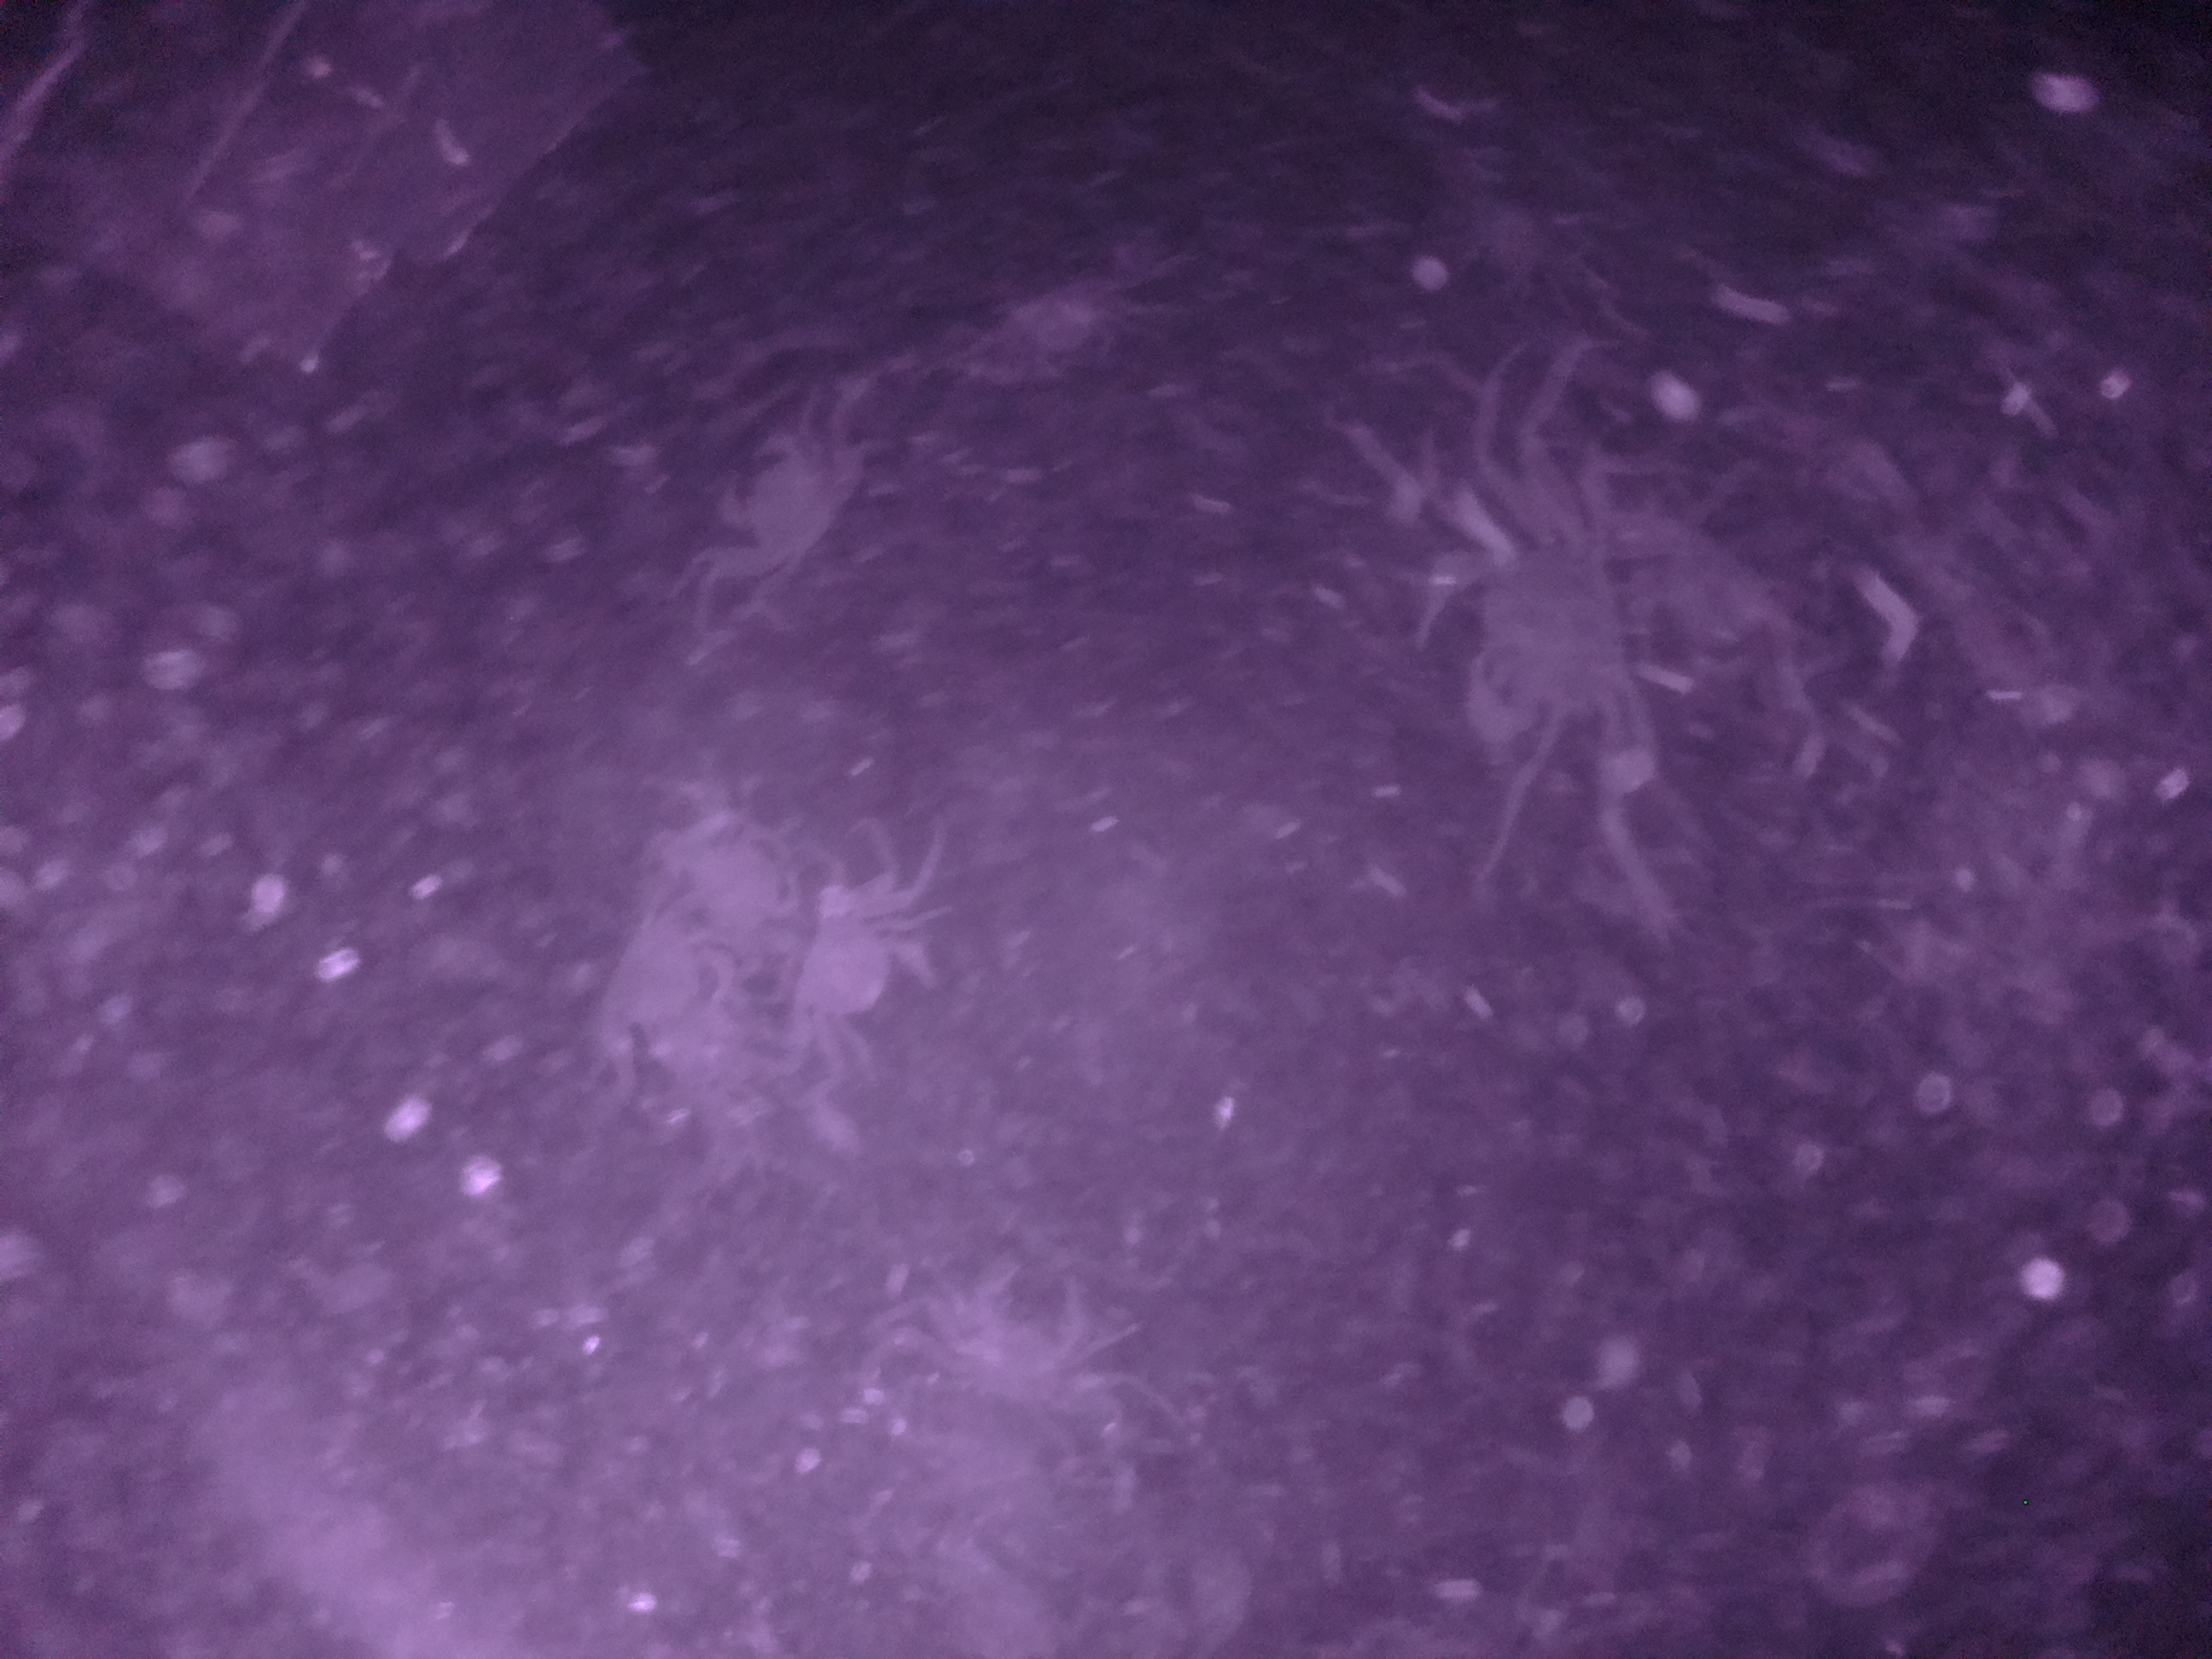Crab: (1397, 491, 1681, 788), (766, 854, 946, 1084), (923, 1244, 1157, 1419), (698, 413, 881, 612)
